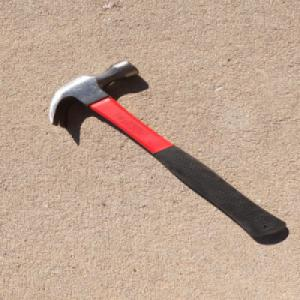Hammer: (45, 58, 288, 239)
